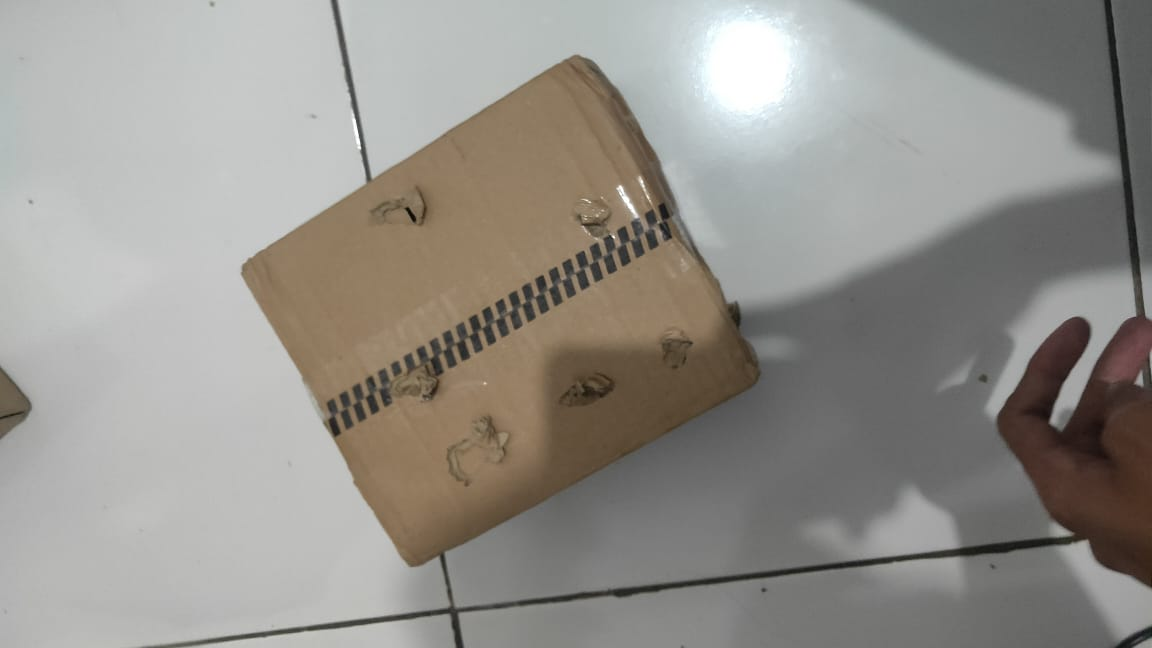damaged package: (444, 405, 514, 501), (649, 317, 704, 377), (368, 181, 426, 236), (556, 372, 624, 411), (377, 371, 441, 404), (577, 191, 608, 249)
undamaged: (239, 55, 761, 569)
